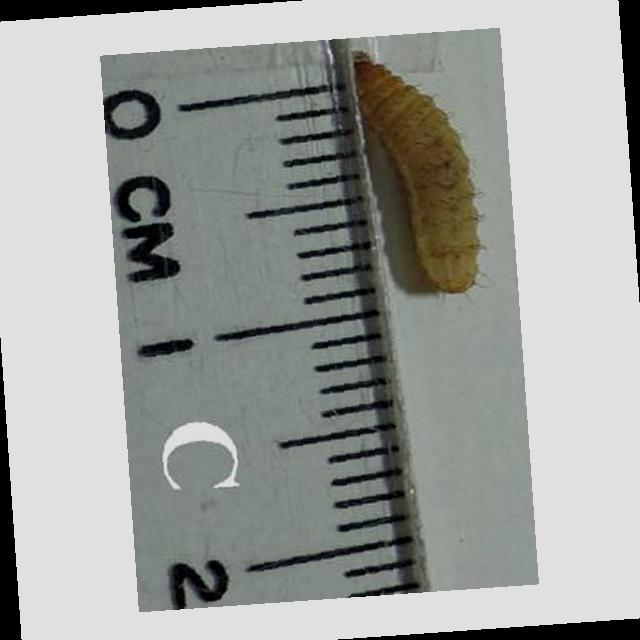Maggot: (355, 62, 503, 291)
